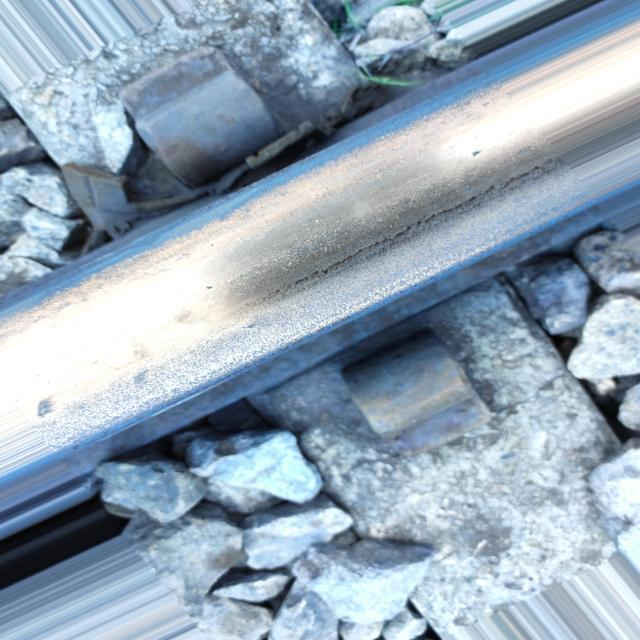Missing Fastener: (112, 11, 319, 197), (323, 321, 509, 479)
